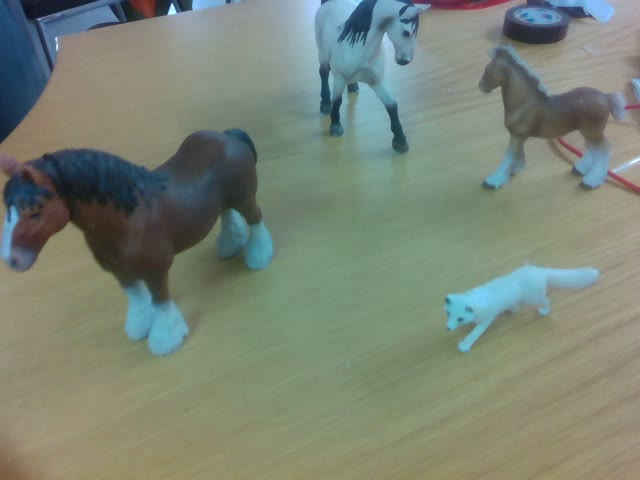toy: (1, 128, 274, 356), (477, 42, 634, 191), (313, 1, 432, 155), (442, 260, 601, 353)
